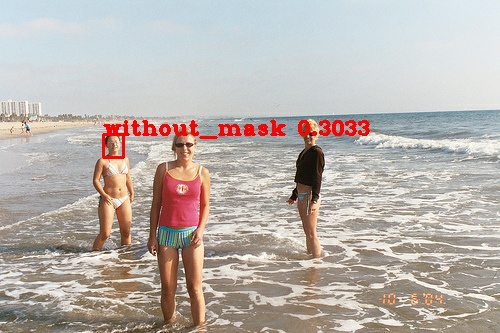without_mask: (172, 133, 197, 163), (301, 124, 321, 146), (102, 135, 124, 154)
